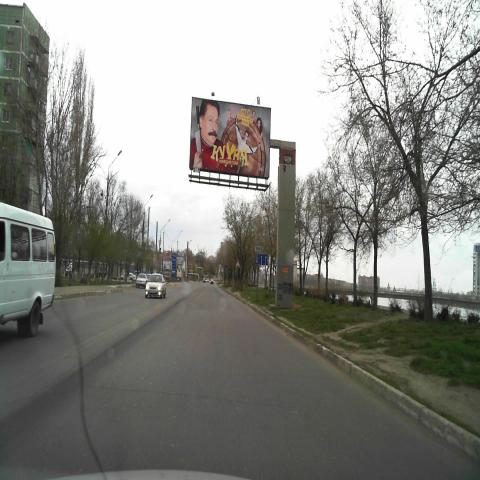5_15_7: (254, 253, 268, 266)
